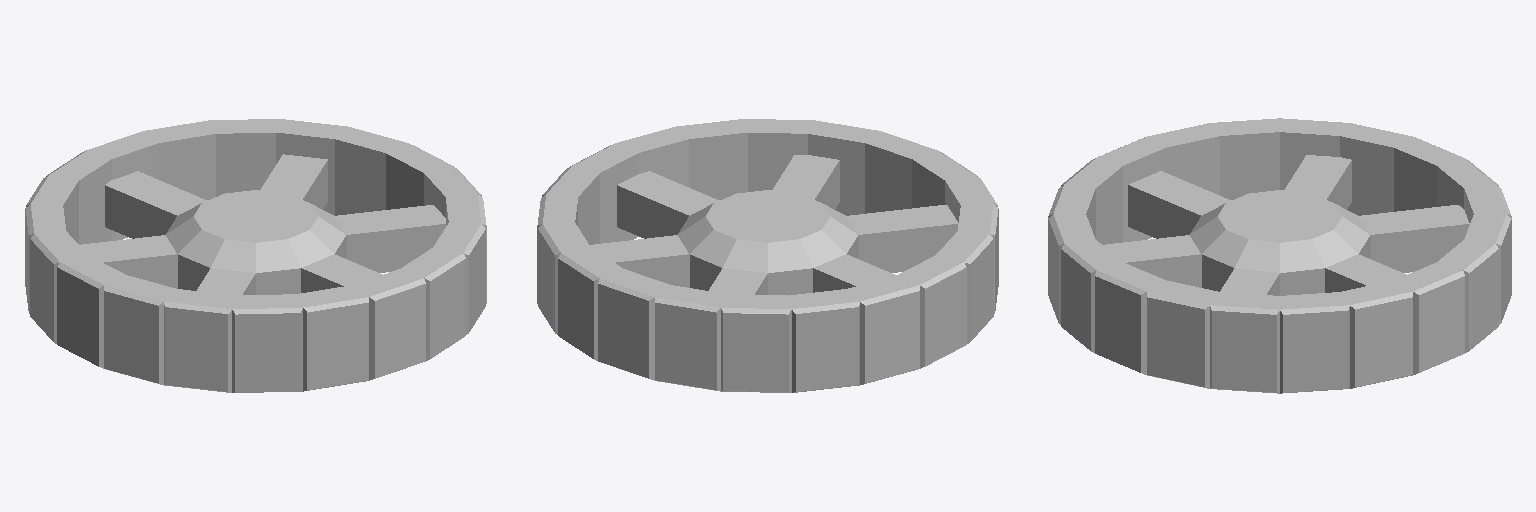
Rendered from metalwheel.obj.
The picture shows the model from 3 angles: view 1: azimuth 30°, elevation 25°; view 2: azimuth 150°, elevation 25°; view 3: azimuth 270°, elevation 25°; orthographic projection.
Parts seen in each view (by area): view 1: Cylinder.001_Cylinder.005; view 2: Cylinder.001_Cylinder.005; view 3: Cylinder.001_Cylinder.005.
Boxes of the visible parts, x1=… form: Cylinder.001_Cylinder.005: x1=25, y1=119, x2=486, y2=392; Cylinder.001_Cylinder.005: x1=537, y1=119, x2=998, y2=392; Cylinder.001_Cylinder.005: x1=1048, y1=118, x2=1511, y2=393.
Size of the model in its own units: 1 by 0.2 by 1.